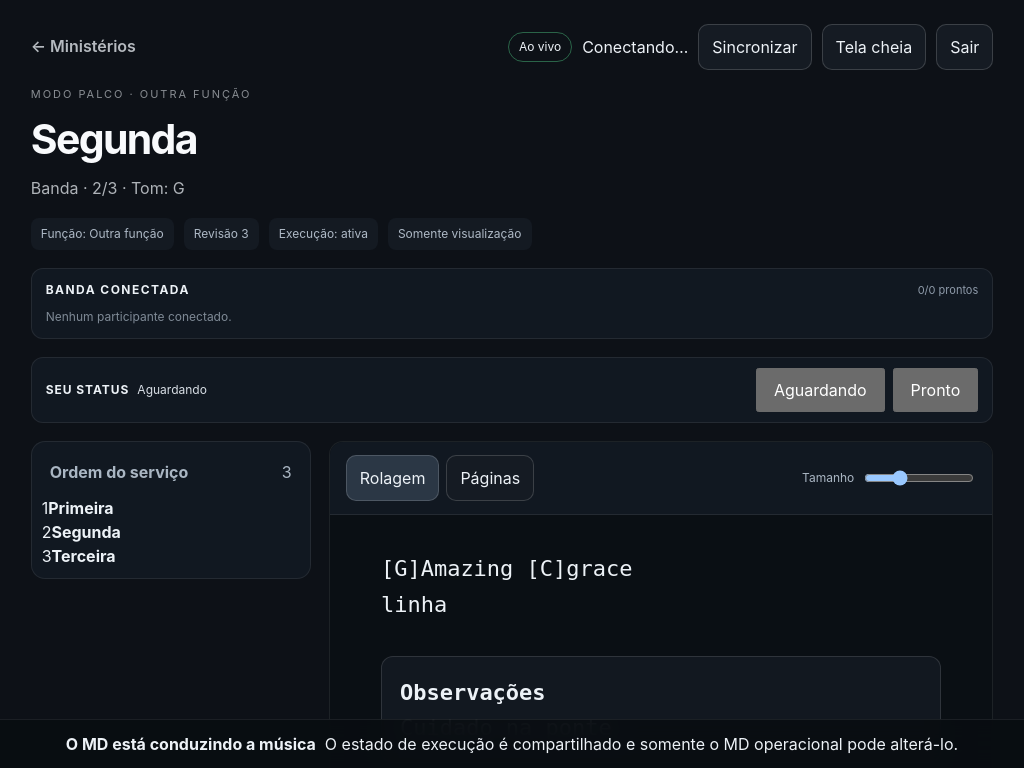
it: ServiceStageMusicianPage - caracterização › falha ao marcar readiness volta para Aguardando e mostra alerta
The width and height of the screenshot is (1024, 768).
Expected: the heading "Segunda" is shown, [31, 114, 197, 164]
Click the button "Pronto" at (935,390), box [893, 368, 978, 412]
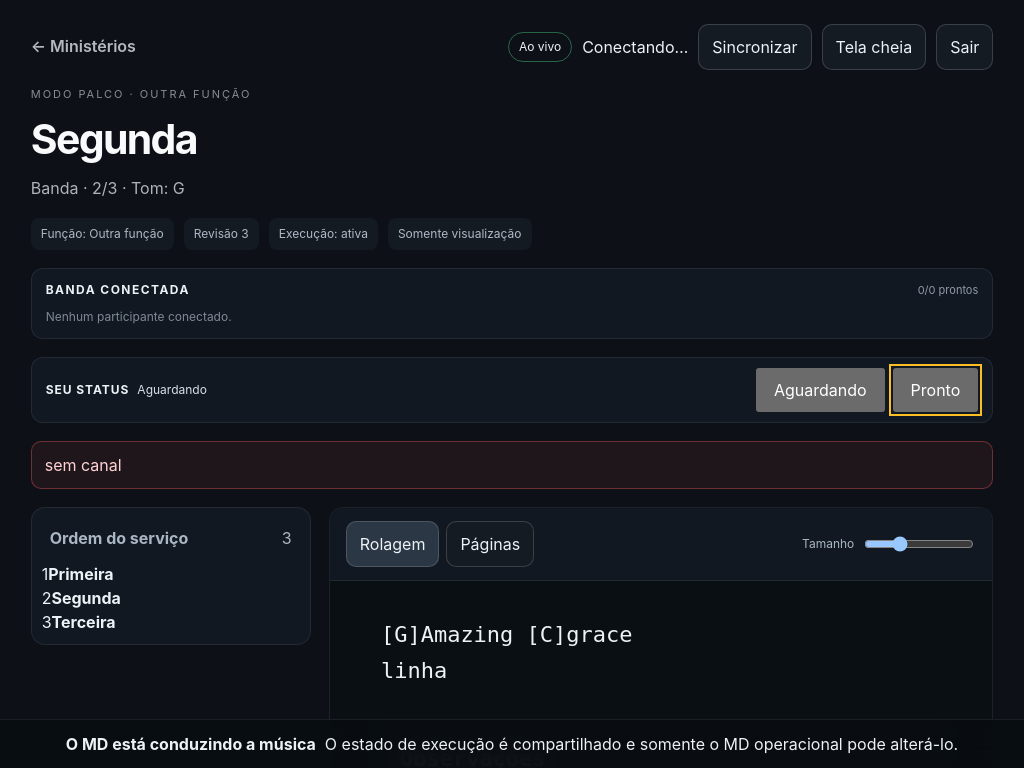
Result: the message reads "sem canal" at [45, 455, 122, 475]
